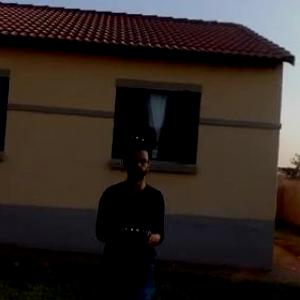follow: (92, 135, 173, 299)
